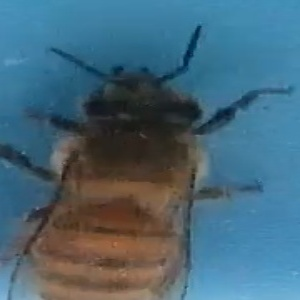bee: (13, 25, 270, 300)
